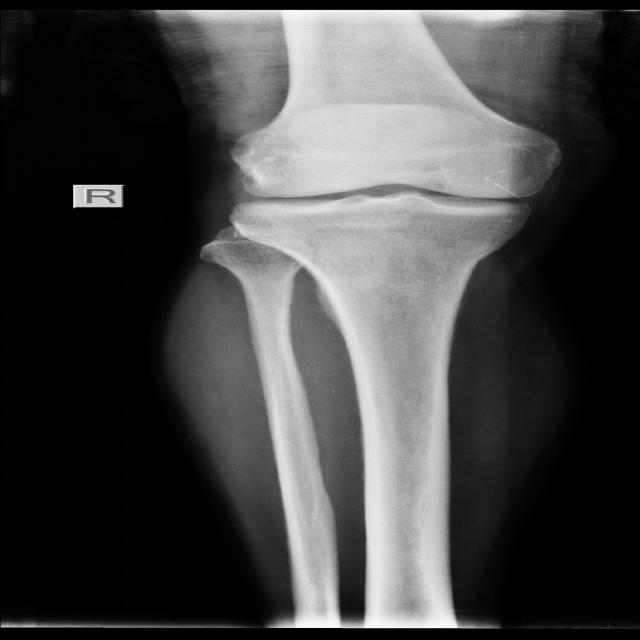normal: (221, 125, 561, 248)
